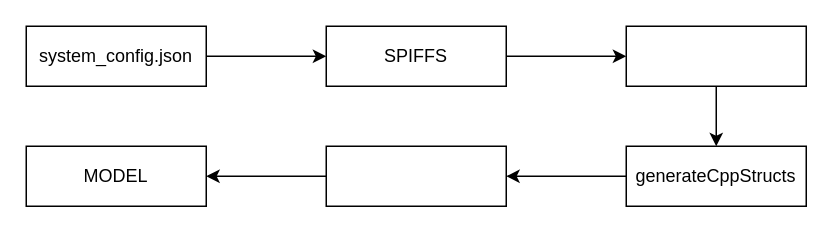
This 833x233 diagram has some shape labels left out. Each missing label, with the box of its shape:
configMODEL: (325, 145, 506, 206)
deserializeJSON: (625, 25, 806, 86)
